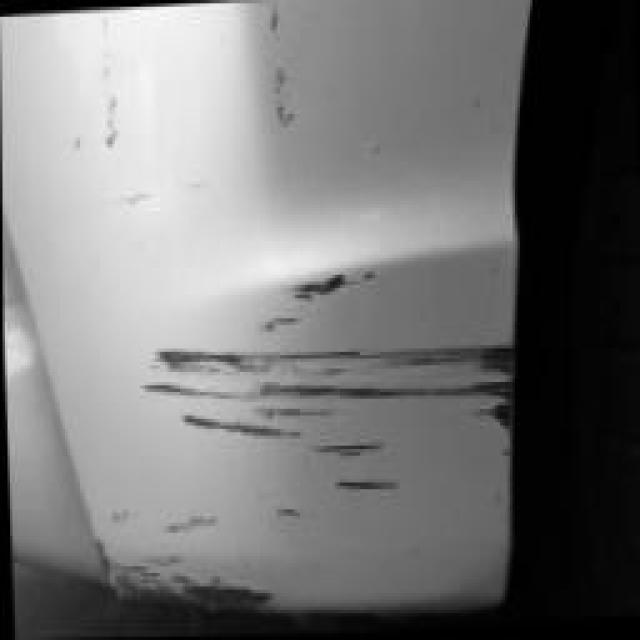Bumper: (60, 0, 550, 619)
